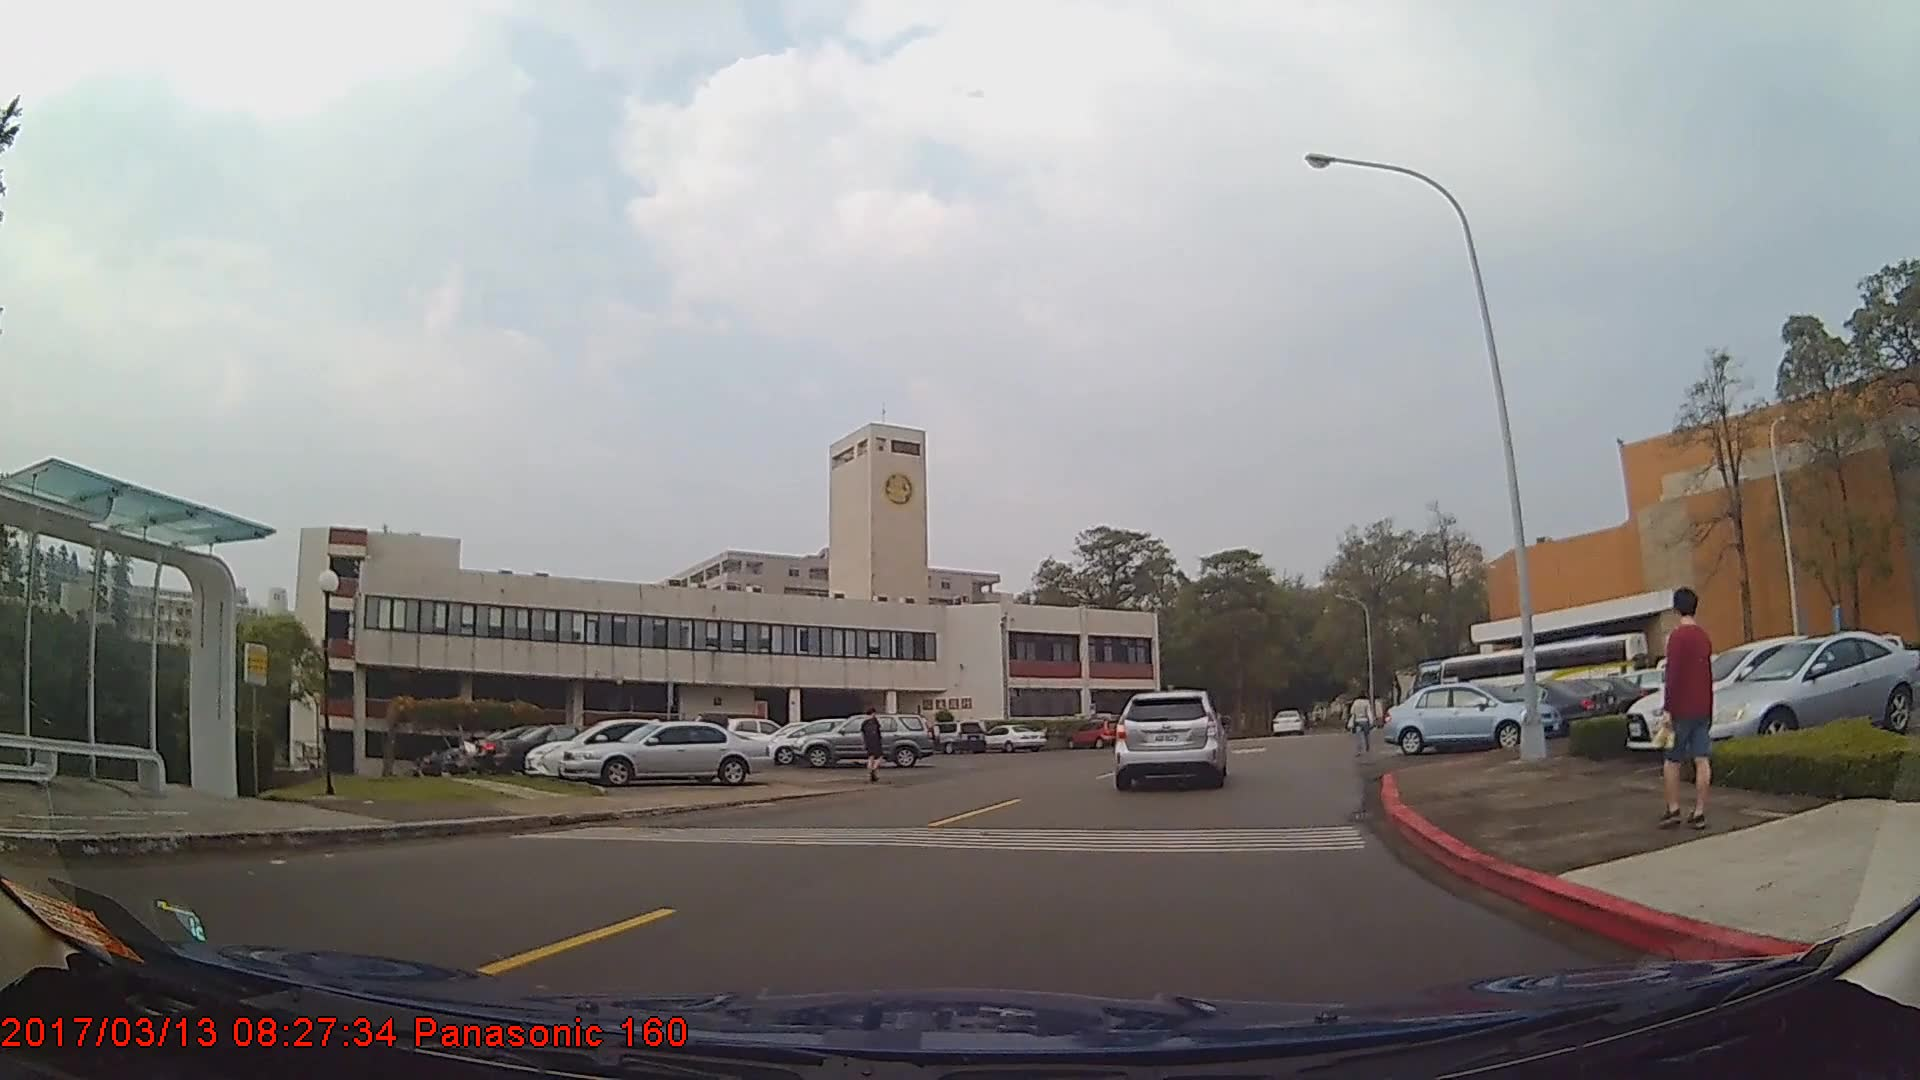pedestrian: (1665, 585, 1722, 821), (1348, 689, 1379, 755), (862, 706, 886, 783)
vehicle: (1623, 629, 1877, 746), (1692, 628, 1918, 750), (557, 716, 773, 785), (520, 713, 731, 776), (1380, 680, 1558, 751), (1116, 688, 1225, 791), (1441, 676, 1615, 736), (790, 708, 939, 765), (484, 721, 636, 776), (920, 716, 985, 751), (978, 720, 1046, 751), (1065, 715, 1127, 747), (1273, 703, 1302, 729)
